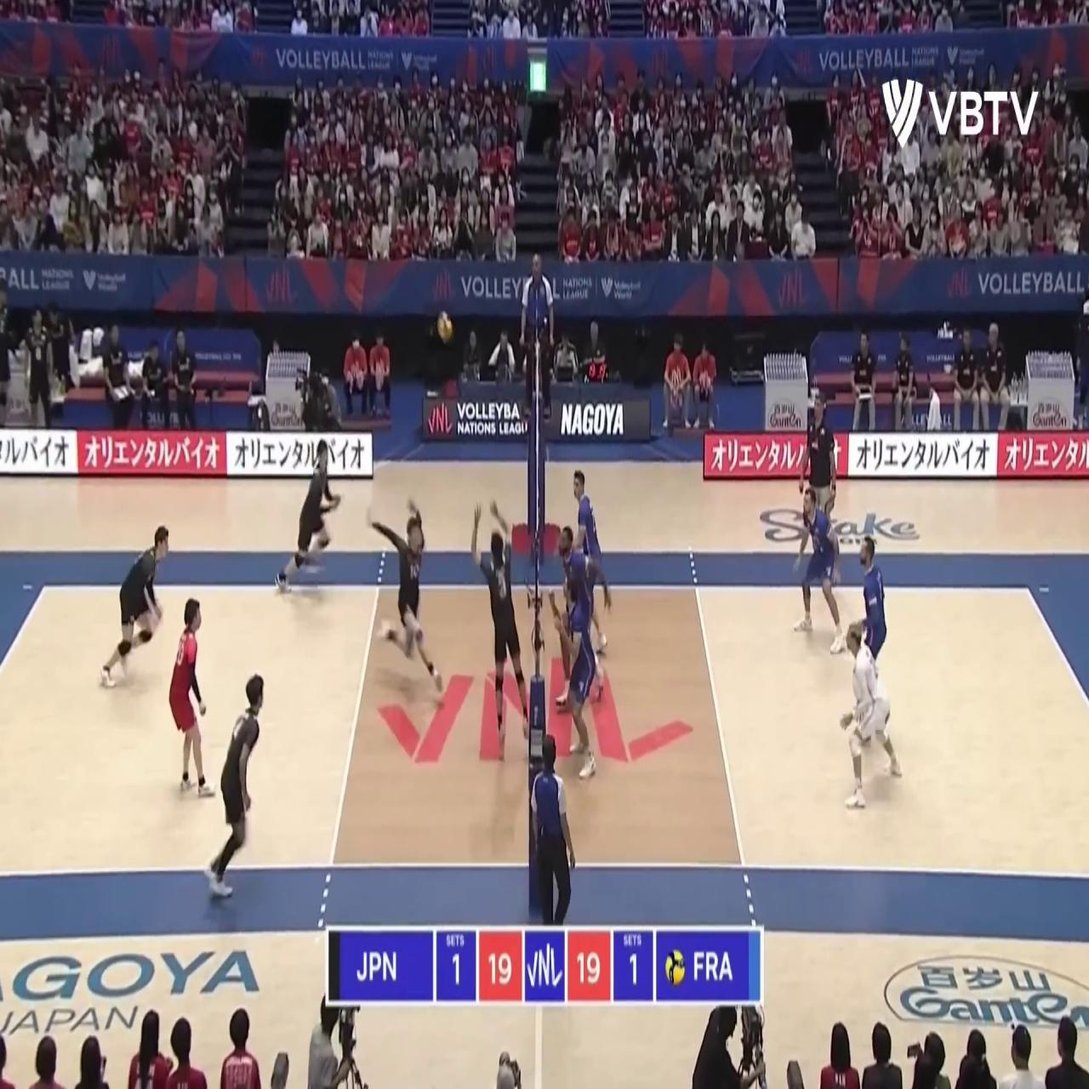ball: (437, 312, 453, 343)
